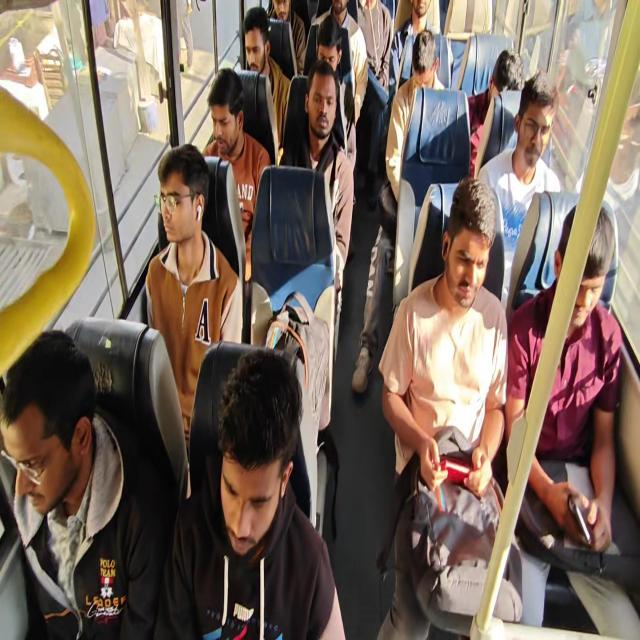person: (161, 344, 313, 640), (135, 147, 238, 333), (0, 400, 132, 527), (578, 185, 612, 391), (463, 203, 513, 341), (197, 64, 243, 190), (522, 72, 566, 192), (482, 23, 530, 128), (298, 60, 336, 154), (358, 0, 395, 71), (244, 14, 284, 76), (405, 21, 435, 97), (316, 6, 345, 76), (270, 0, 300, 41), (334, 0, 353, 41), (414, 0, 434, 30)
